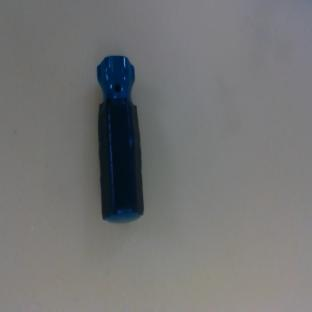part_2_bad: (95, 56, 144, 224)
